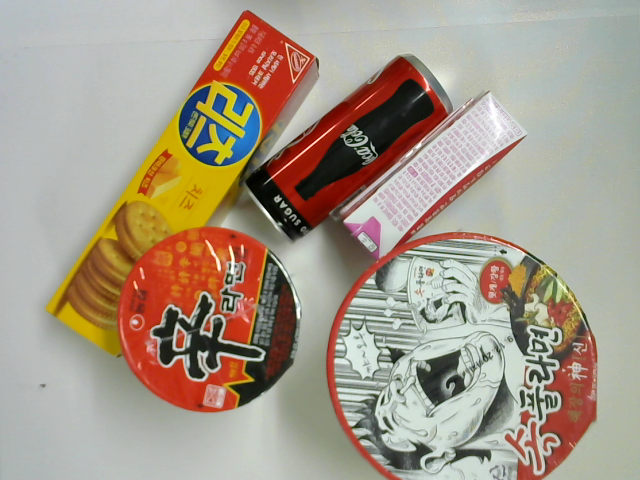Coca_Cola_Zero_Can_250ml: (246, 53, 452, 243)
Hejangpul: (324, 225, 603, 480)
Ritz_Sand_Cracker: (44, 10, 318, 367)
Sinramen_small: (113, 223, 305, 416)
Strawberry_E_Mong: (331, 88, 529, 262)
